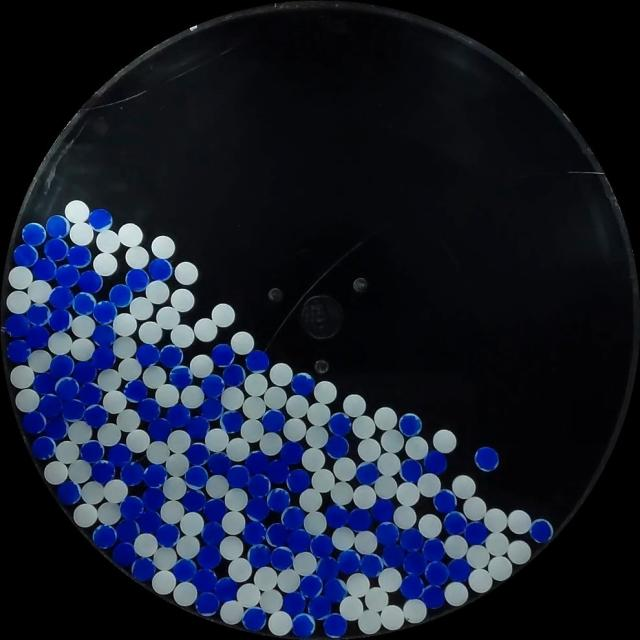pmmma-azul: (191, 568, 218, 594), (194, 591, 219, 617), (399, 573, 424, 599), (13, 243, 39, 268), (322, 612, 347, 638), (443, 510, 468, 536), (423, 449, 448, 475), (420, 584, 446, 609), (49, 354, 74, 380), (54, 376, 80, 401), (148, 416, 173, 442), (37, 393, 63, 418), (528, 518, 553, 544), (316, 556, 340, 583), (196, 543, 221, 568), (49, 285, 74, 310), (464, 520, 489, 545), (322, 577, 347, 602), (83, 403, 108, 428), (112, 541, 137, 566), (120, 461, 145, 486), (245, 496, 270, 521), (135, 342, 160, 367), (78, 381, 103, 406), (22, 410, 47, 435), (131, 557, 156, 582), (72, 360, 97, 385), (31, 435, 56, 460), (166, 403, 191, 428), (32, 256, 57, 281), (136, 508, 161, 533), (25, 324, 50, 349), (43, 416, 68, 441), (474, 447, 499, 472), (202, 520, 226, 546), (21, 222, 47, 246), (184, 464, 210, 488), (77, 270, 103, 294), (279, 440, 303, 466), (446, 558, 472, 582), (375, 521, 399, 547), (292, 612, 316, 638), (92, 300, 118, 324), (91, 346, 115, 372), (424, 561, 449, 585), (242, 606, 266, 631), (181, 488, 206, 512), (92, 524, 117, 548), (203, 498, 228, 522), (242, 520, 266, 545), (143, 463, 167, 488), (214, 577, 238, 602), (55, 264, 80, 288), (299, 574, 323, 599), (245, 349, 270, 373), (247, 473, 271, 498), (125, 268, 150, 292), (5, 314, 30, 338), (48, 308, 72, 333), (90, 460, 115, 484), (202, 497, 226, 522), (44, 238, 69, 262), (336, 550, 361, 574), (88, 208, 113, 232), (308, 594, 332, 619), (186, 442, 210, 467), (226, 464, 250, 488), (172, 558, 196, 582), (422, 538, 446, 562), (270, 546, 294, 570), (359, 553, 383, 577), (57, 481, 81, 505), (137, 398, 161, 422), (399, 528, 423, 552), (325, 504, 349, 528), (201, 374, 225, 398), (108, 443, 132, 467), (287, 528, 311, 552), (282, 592, 306, 616), (186, 416, 210, 440), (326, 434, 350, 458), (291, 372, 315, 396), (282, 506, 306, 530), (120, 496, 144, 520), (92, 324, 116, 348), (123, 379, 147, 403), (266, 488, 290, 512), (116, 519, 140, 543), (347, 507, 372, 530), (67, 245, 92, 268), (372, 498, 395, 523), (45, 215, 70, 238), (148, 258, 173, 281), (92, 345, 115, 370), (403, 551, 428, 574), (433, 489, 456, 513), (156, 523, 180, 546), (261, 409, 285, 432), (287, 468, 310, 492), (80, 440, 104, 463), (109, 284, 132, 308), (200, 397, 223, 421), (207, 452, 231, 475), (27, 303, 50, 327), (159, 344, 183, 367), (169, 365, 193, 388), (72, 292, 96, 315), (159, 345, 183, 368), (400, 458, 422, 483), (61, 398, 86, 420), (212, 343, 235, 366), (220, 410, 243, 433), (222, 364, 245, 387), (328, 412, 351, 435), (7, 340, 30, 363), (399, 413, 422, 436), (34, 372, 57, 395), (248, 544, 270, 568), (310, 534, 332, 558), (382, 543, 404, 567), (142, 486, 166, 508), (246, 450, 268, 474), (356, 462, 378, 485), (266, 460, 288, 482), (266, 523, 286, 546)
